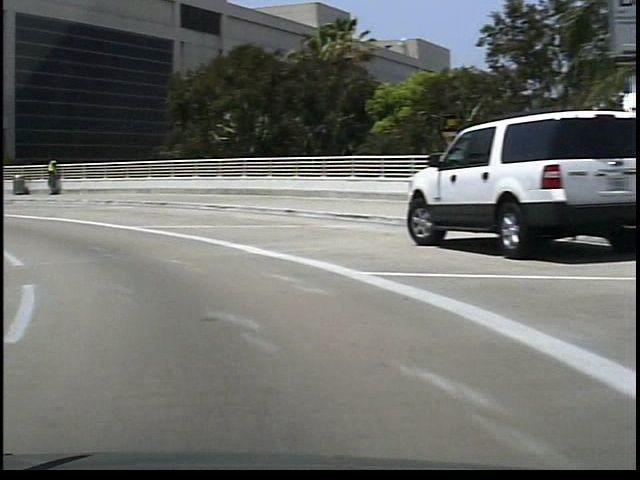person: (41, 154, 59, 198)
